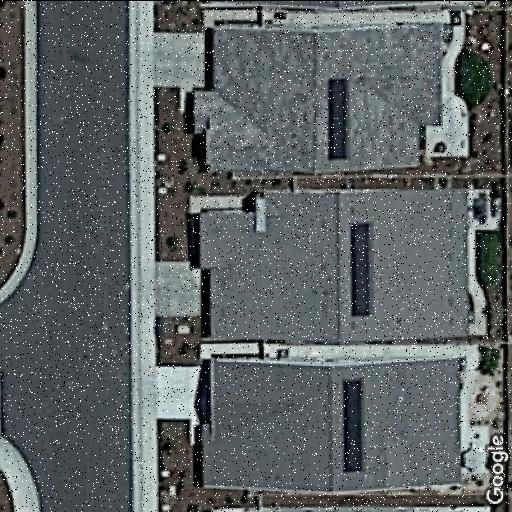solar-panel: (347, 218, 377, 318), (338, 374, 366, 476), (324, 74, 352, 162)
